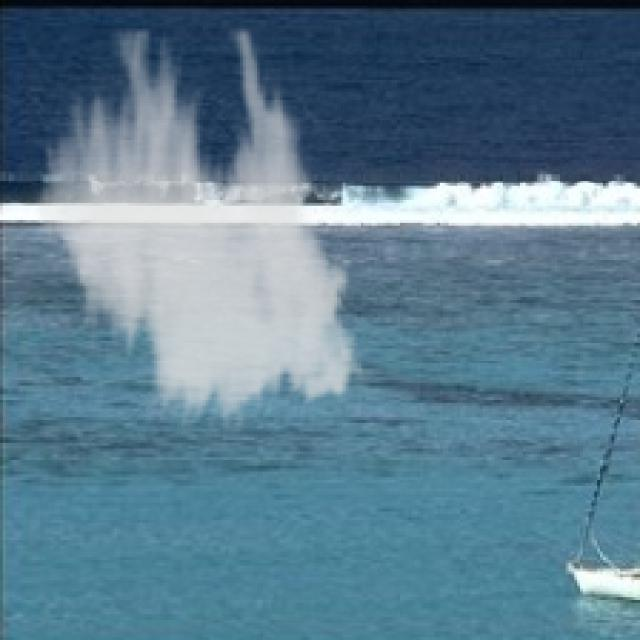Smoke: (26, 28, 374, 434)
